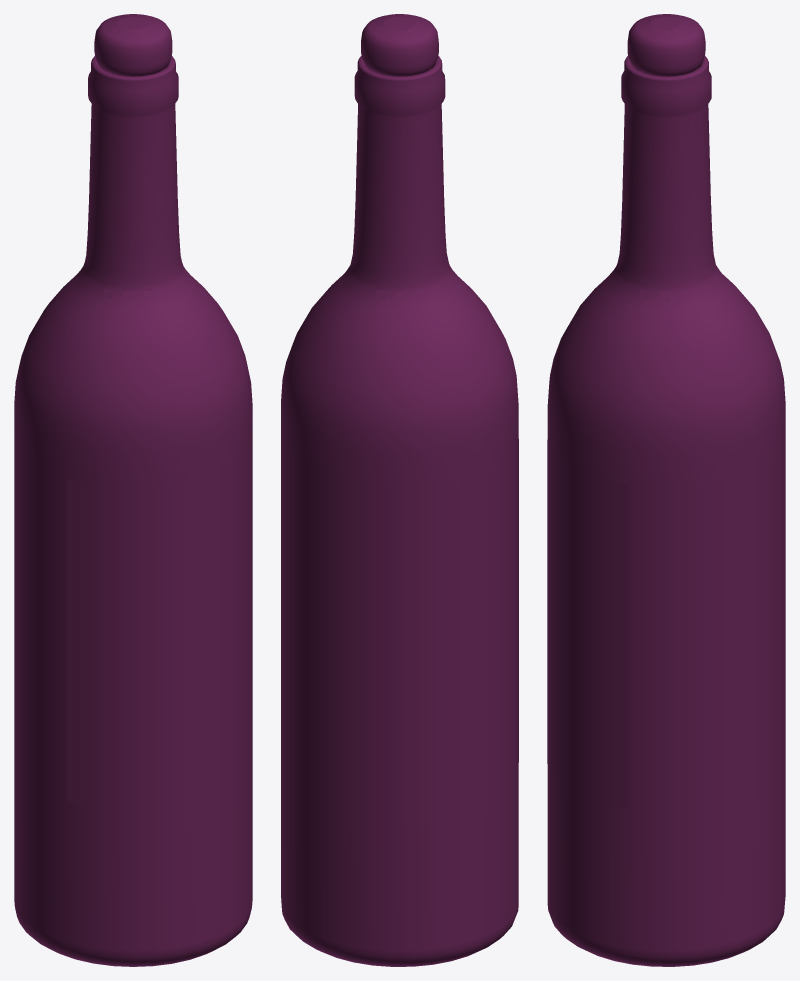
File: vino por partes 1.fbx
3 renders of one model, left to right at view 1: azimuth 30°, elevation 25°; view 2: azimuth 150°, elevation 25°; view 3: azimuth 270°, elevation 25°, orthographic.
Visible parts, largest first — view 1: Base_vino, corcho; view 2: Base_vino, corcho; view 3: Base_vino, corcho.
Boxes of the visible parts, x1=… form: Base_vino: x1=14, y1=55, x2=252, y2=966; corcho: x1=94, y1=14, x2=172, y2=76; Base_vino: x1=281, y1=56, x2=518, y2=966; corcho: x1=361, y1=14, x2=438, y2=76; Base_vino: x1=547, y1=56, x2=785, y2=966; corcho: x1=627, y1=14, x2=705, y2=76.
Size of the model in its own units: 8.19 by 34.2 by 8.2.
